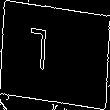L_S: (44, 28, 66, 82)
